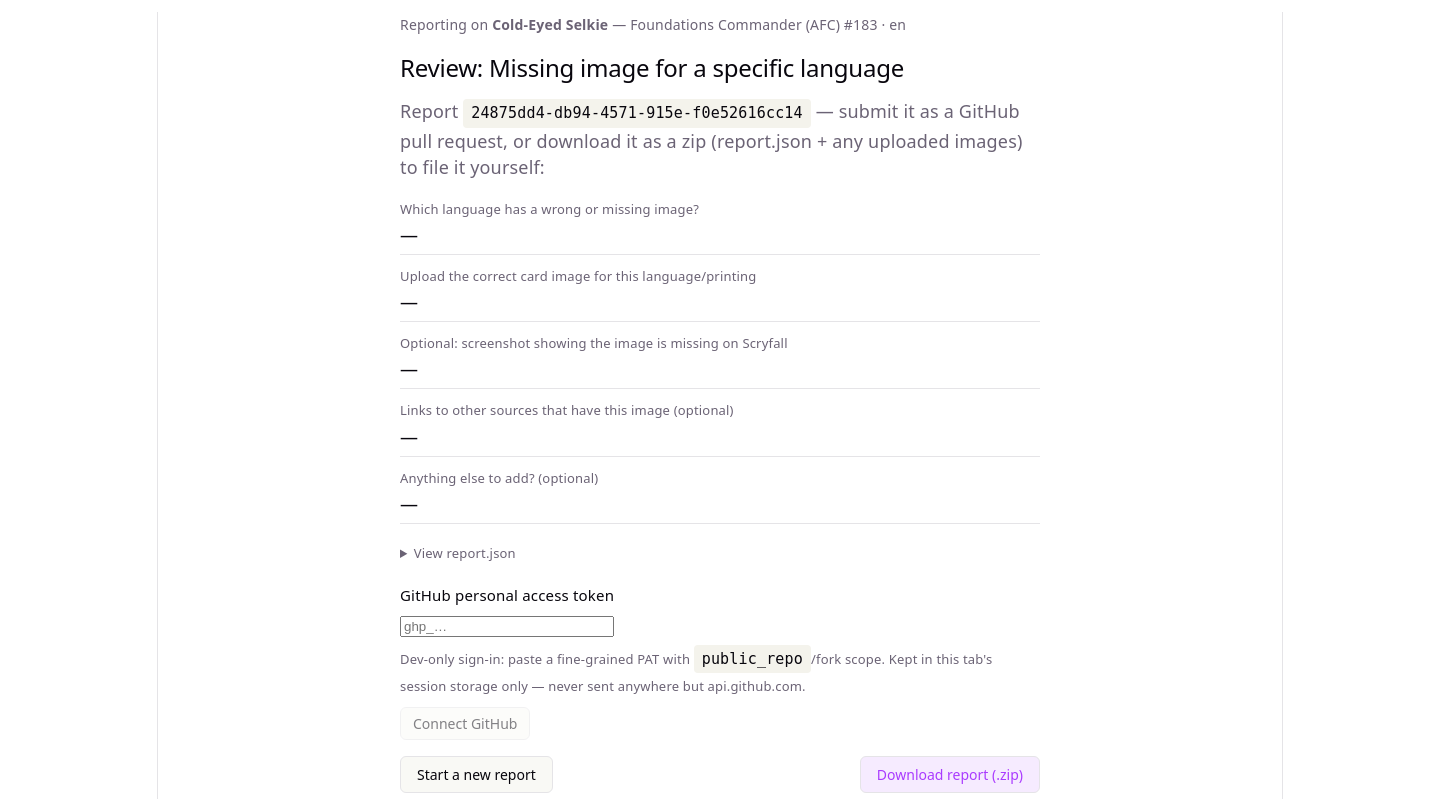
WizardSummary › shows an error message if the download fails
This screenshot has width=1440, height=799.
Click the button "Download report (.zip)" at (950, 775), box x1=860 y1=756 x2=1040 y2=793
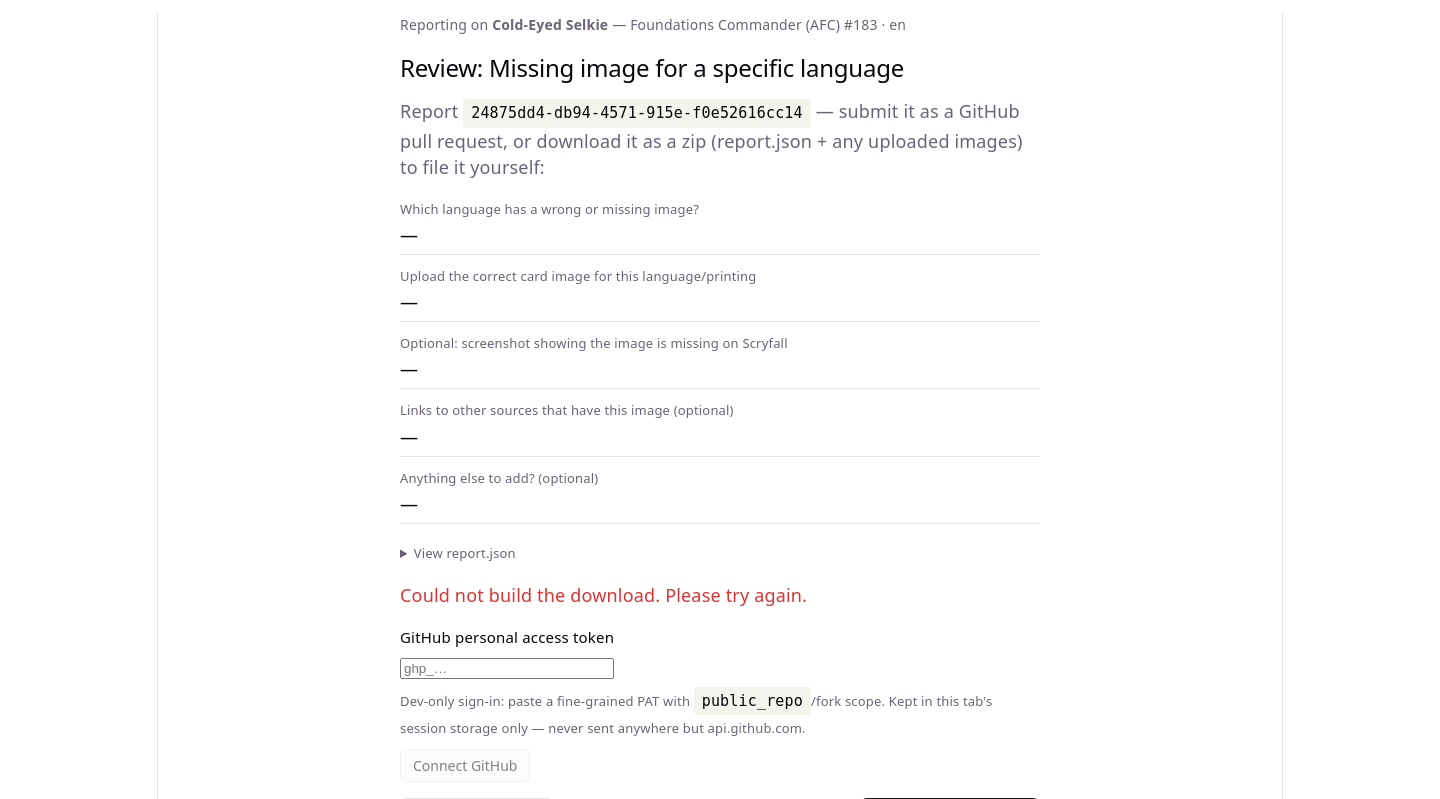
Check: the text "Could not build the download. Please try again." is shown, box x1=400 y1=583 x2=807 y2=607
